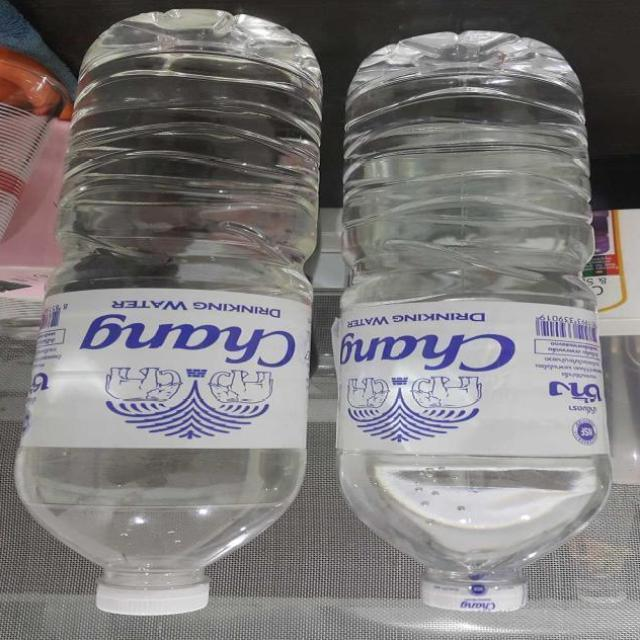plastik: (16, 10, 322, 614), (335, 32, 611, 610)
